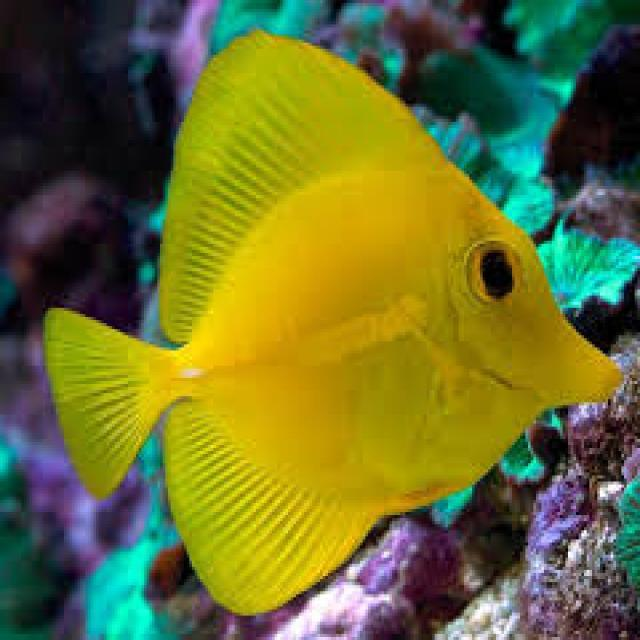YellowTang: (46, 12, 622, 606)
